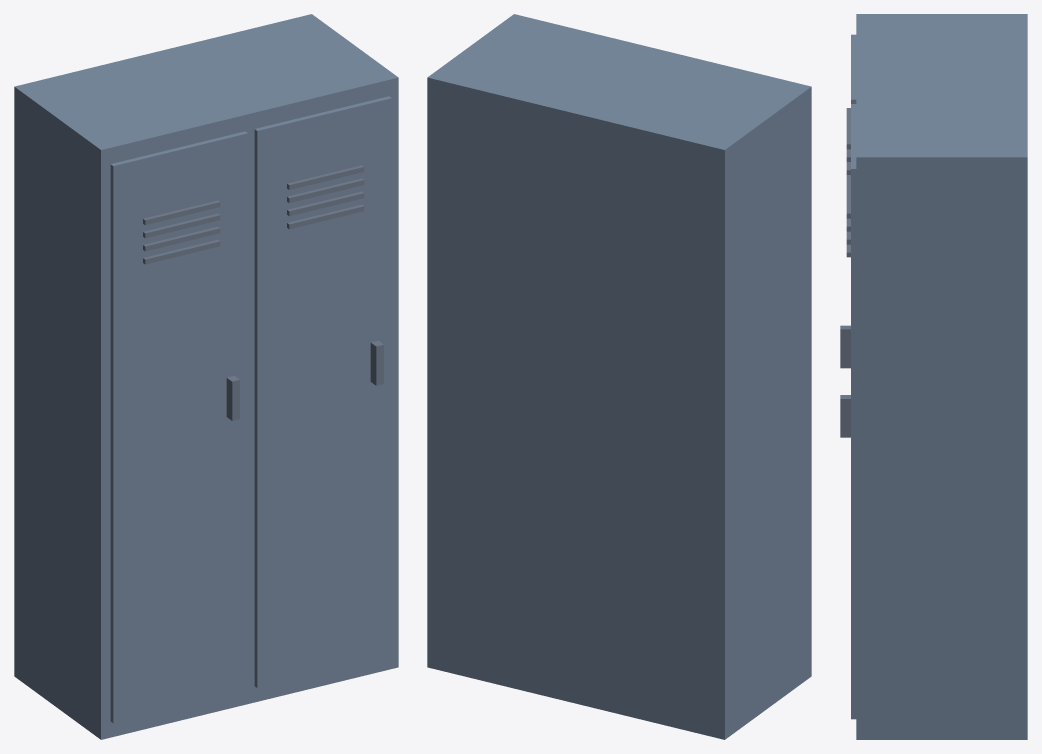
The model's file is ch5_prop_school_locker.glb.
The picture shows the model from 3 angles, left to right: view 1: azimuth 30°, elevation 25°; view 2: azimuth 150°, elevation 25°; view 3: azimuth 270°, elevation 25°; orthographic projection.
Visible parts, largest first — view 1: ch5_prop_school_locker; view 2: ch5_prop_school_locker; view 3: ch5_prop_school_locker.
Boxes of the visible parts, <box> form: ch5_prop_school_locker: <box>14,14,398,739</box>; ch5_prop_school_locker: <box>427,14,811,739</box>; ch5_prop_school_locker: <box>840,14,1027,739</box>.
Size of the model in its own units: 0.95 by 1.8 by 0.525.
2 materials, 1 textured.
